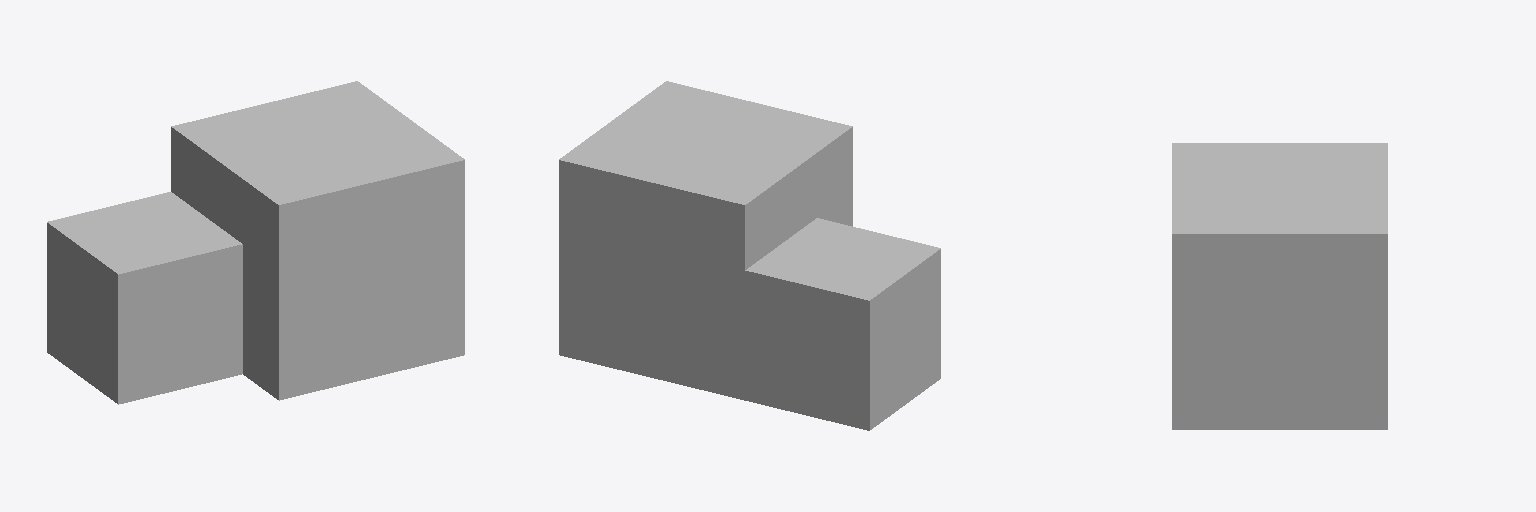
File: Cloud.obj
The picture shows the model from 3 angles: view 1: azimuth 30°, elevation 25°; view 2: azimuth 150°, elevation 25°; view 3: azimuth 270°, elevation 25°; orthographic projection.
Size of the model in its own units: 5 by 3 by 3.